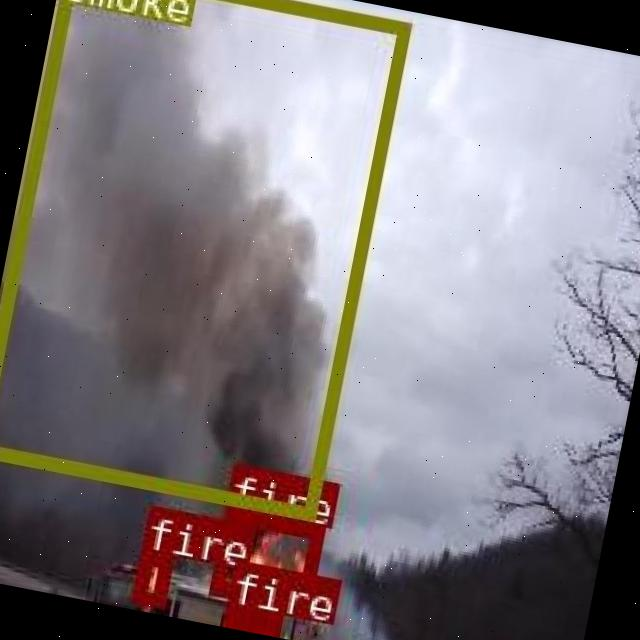fire: (208, 506, 322, 610), (130, 549, 172, 605), (222, 603, 278, 632)
smoke: (0, 0, 409, 518)
